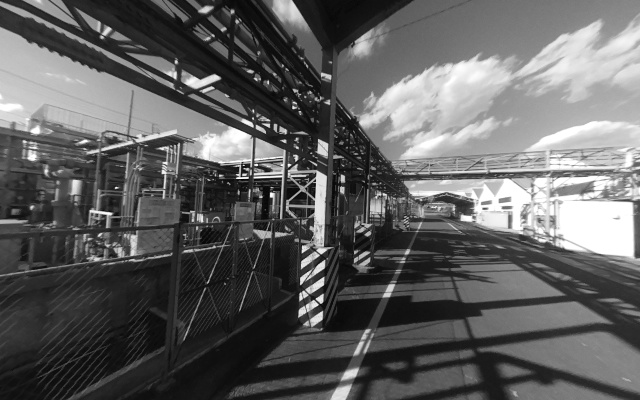bollard: (299, 242, 340, 329), (351, 220, 375, 272), (403, 215, 410, 232)
